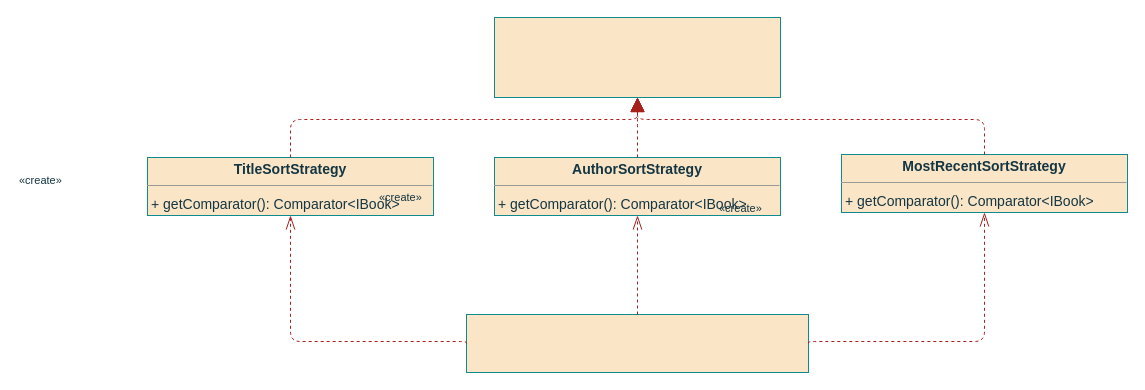
The diagram is 1145 pixels wide and 390 high, and some of its shapes have lost their labels. Each missing label, with the centre of its shape:
"<<interface>> BookSortStrategy + getComparator(): Comparator<IBook>" goes at (x=637, y=57).
"BookSortStrategyFactory + getStrategy(BookOrderType): BookSortStrategy" goes at (x=637, y=343).
